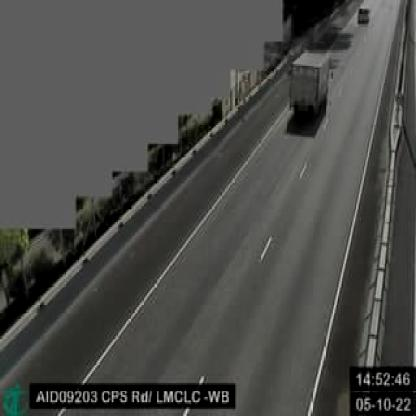Truck: (287, 52, 329, 114)
